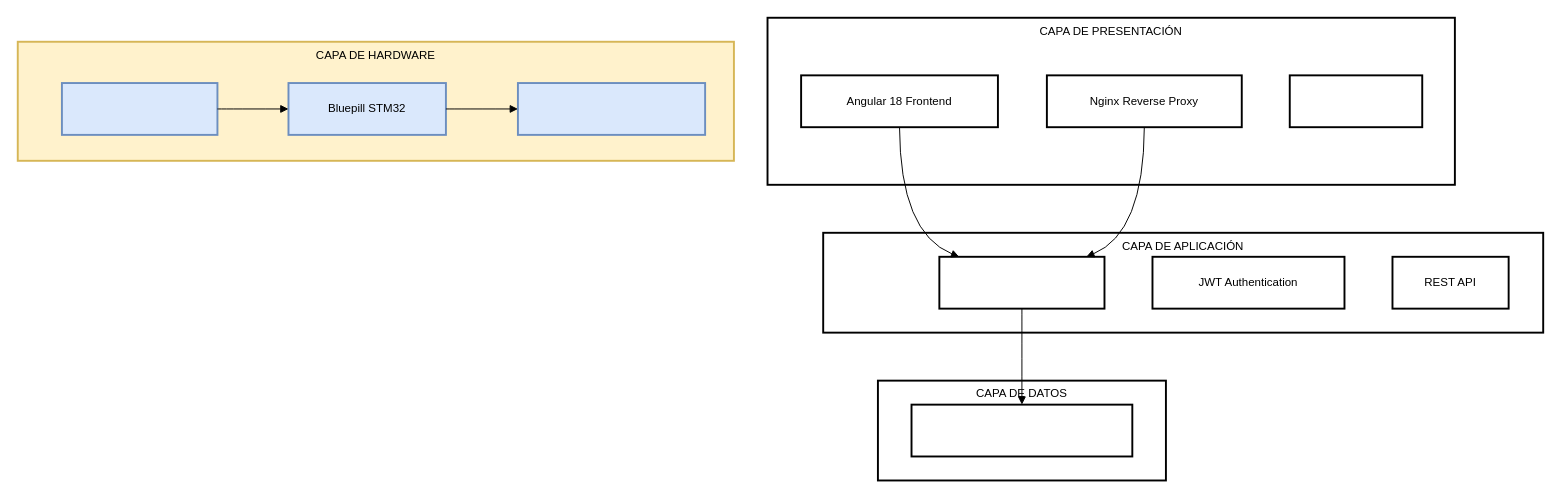
Some shapes in this 1560 by 497 pixel diagram are drawn without their labels. The centre of each missing label's shape, as x and y in pixels:
.NET Core 8 API: the point at 1021,282
PostgreSQL 16 Database: the point at 1021,430
Raspberry Pi 3: the point at 139,108
RC522 RFID Reader: the point at 611,108
SSL/HTTPS: the point at 1355,101
